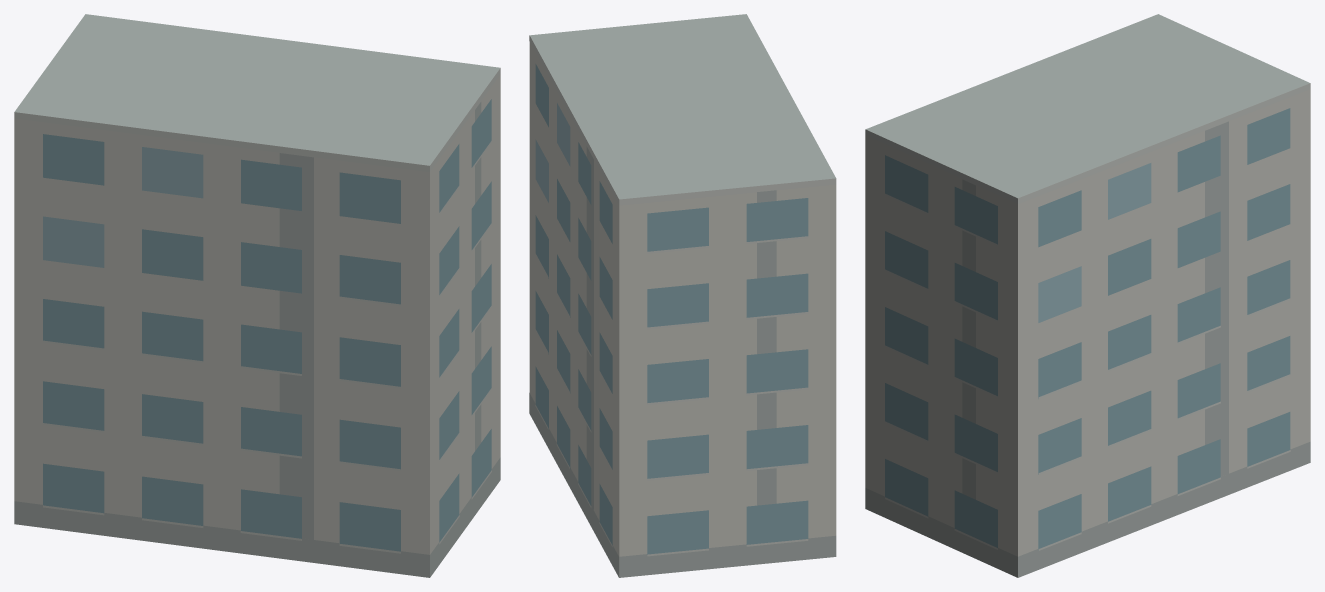
File: residential-964d9a64-a471-49ba-b696-5e2b86801eb6.glb
3 renders of one model, left to right at view 1: azimuth 30°, elevation 25°; view 2: azimuth 150°, elevation 25°; view 3: azimuth 270°, elevation 25°, orthographic. The views are drawn at different scales.
Parts seen in each view (by area): view 1: residential-964d9a64-a471-49ba-b696-5e2b86801eb6.tmp; view 2: residential-964d9a64-a471-49ba-b696-5e2b86801eb6.tmp; view 3: residential-964d9a64-a471-49ba-b696-5e2b86801eb6.tmp.
Boxes of the visible parts, x1=… form: residential-964d9a64-a471-49ba-b696-5e2b86801eb6.tmp: x1=14, y1=14, x2=500, y2=577; residential-964d9a64-a471-49ba-b696-5e2b86801eb6.tmp: x1=529, y1=14, x2=836, y2=577; residential-964d9a64-a471-49ba-b696-5e2b86801eb6.tmp: x1=865, y1=14, x2=1310, y2=577.
Bounding box in the file's own units: 15.89 × 15.25 × 16.22.
